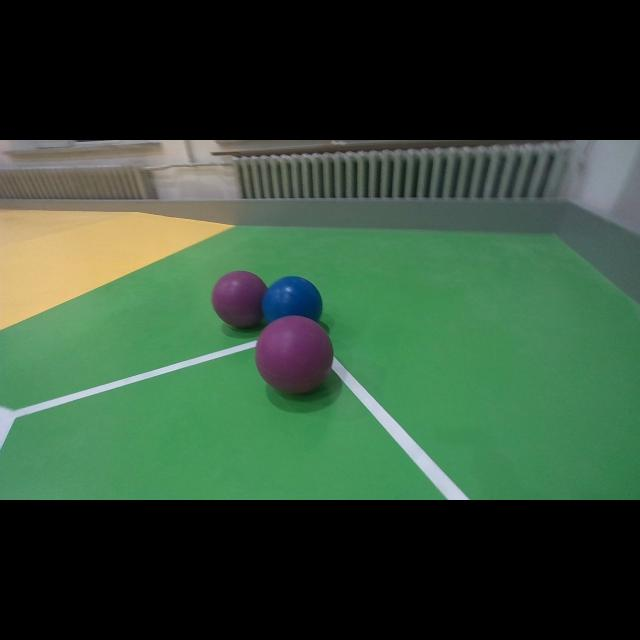B: (262, 275, 322, 323)
P: (254, 316, 334, 394), (212, 270, 268, 328)
